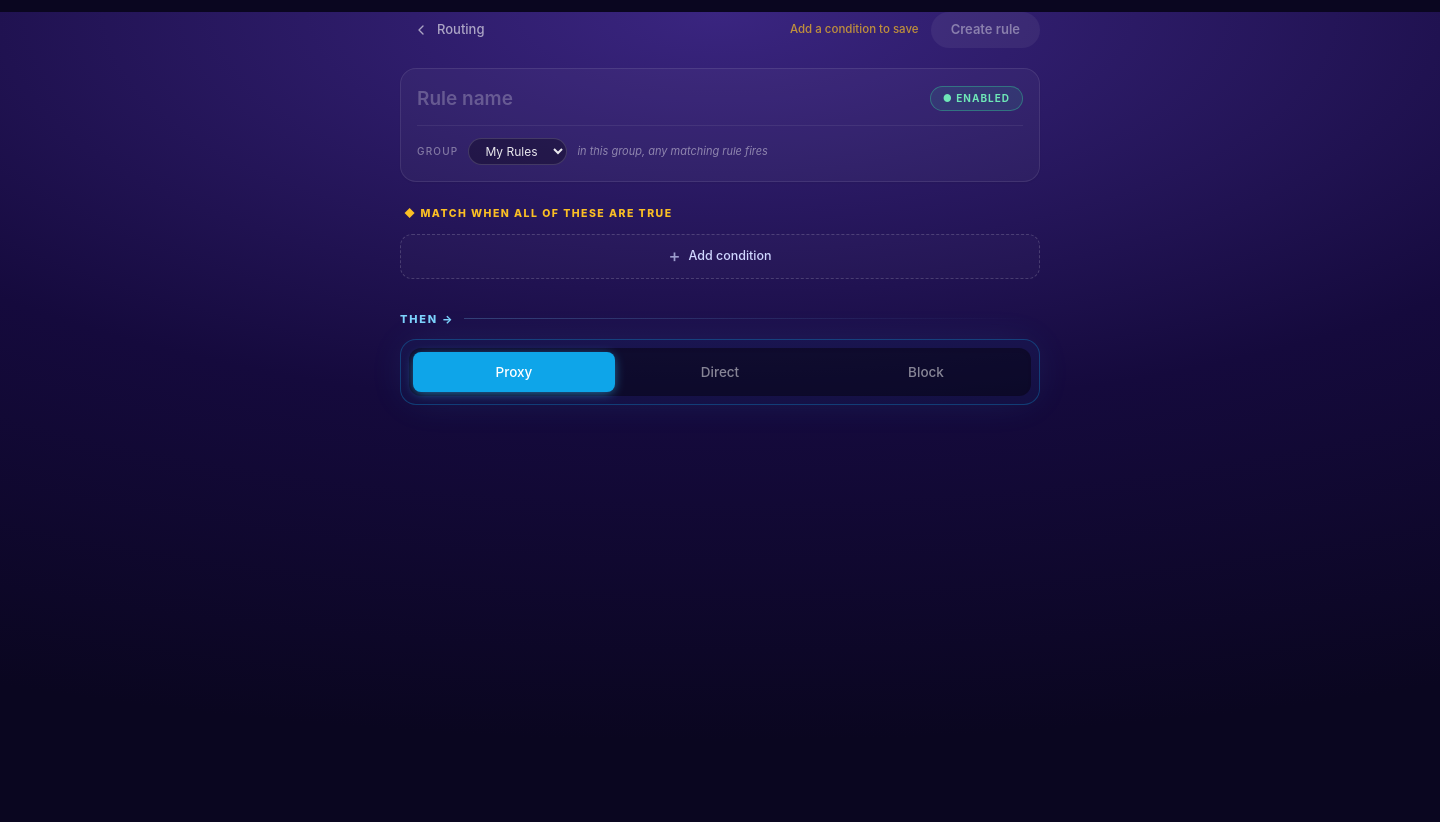
it: RuleEditor › adding a condition opens its card expanded and enables Save once a chip exists
This screenshot has width=1440, height=822.
Click the button "+ Add condition" at point(720, 256), box left=400, top=234, right=1040, bottom=279
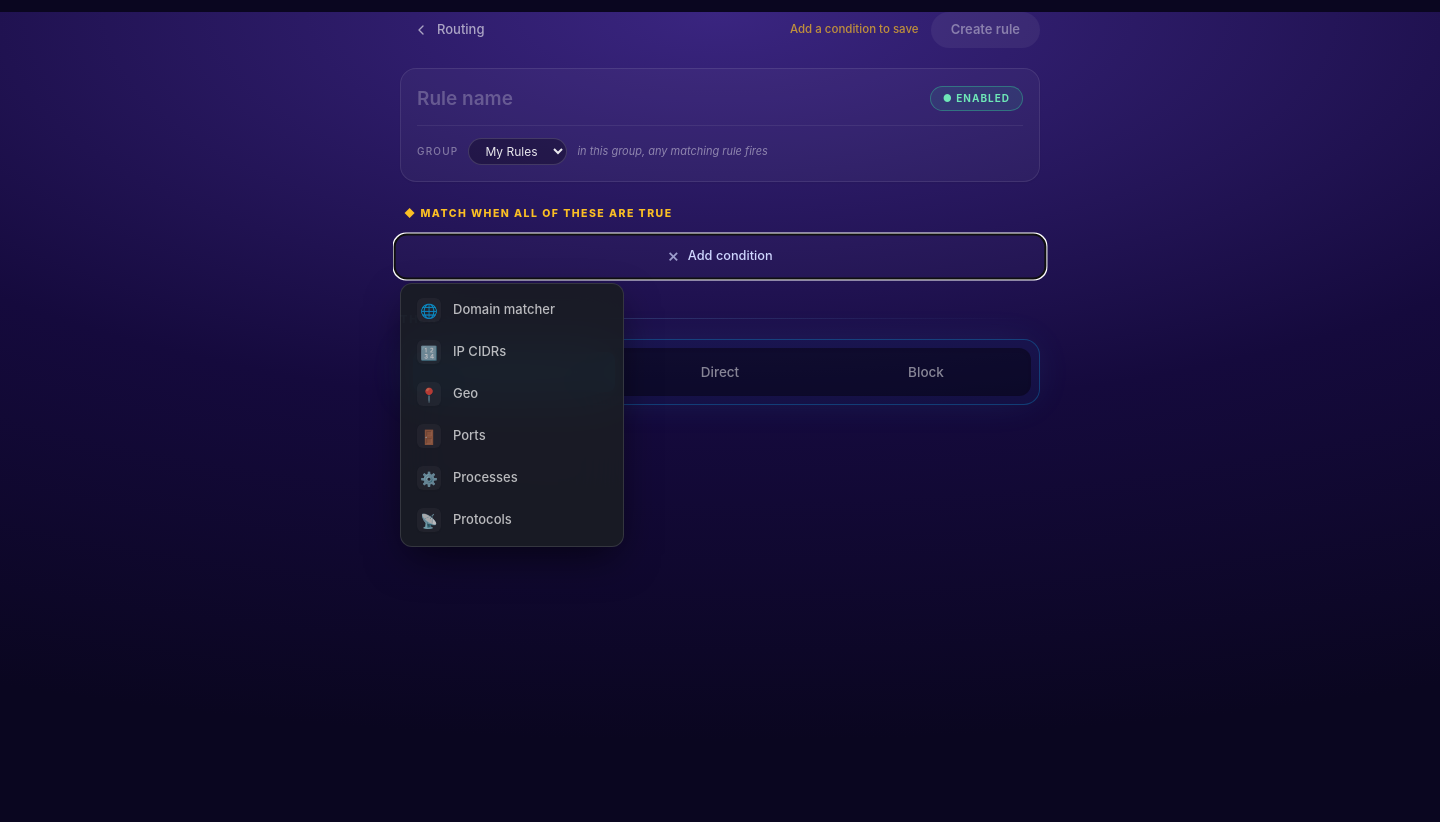
Click the menu item "🌐 Domain matcher" at point(512, 310), box left=407, top=290, right=617, bottom=330
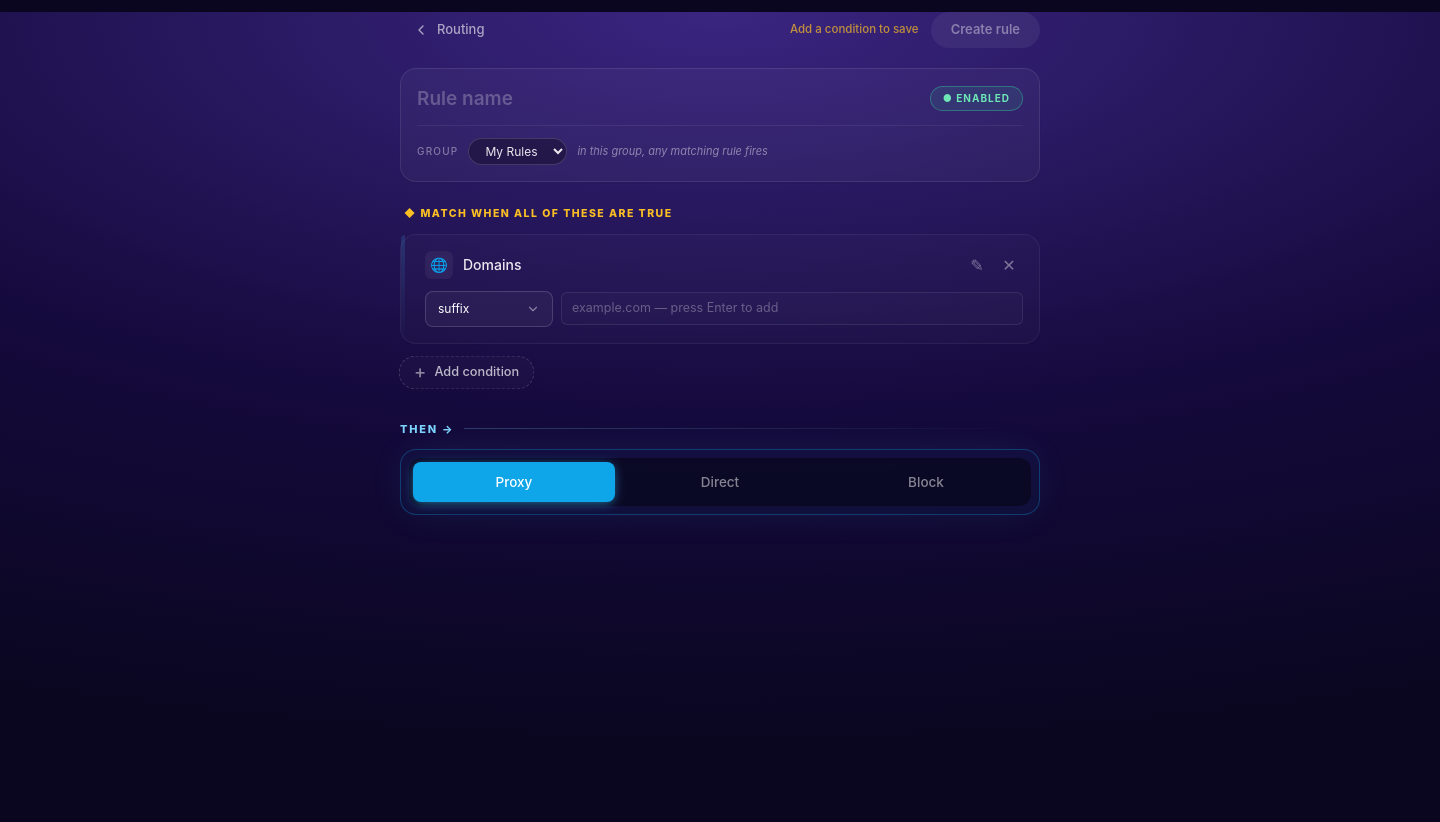
Expected: the button "Create rule" is disabled, left=931, top=12, right=1040, bottom=48
Expected: the heading "🌐 Domains" is shown, left=425, top=251, right=521, bottom=279
Type "example.com" into the field named "domain matcher value" at point(792, 309), box left=561, top=292, right=1023, bottom=325
Then press Enter
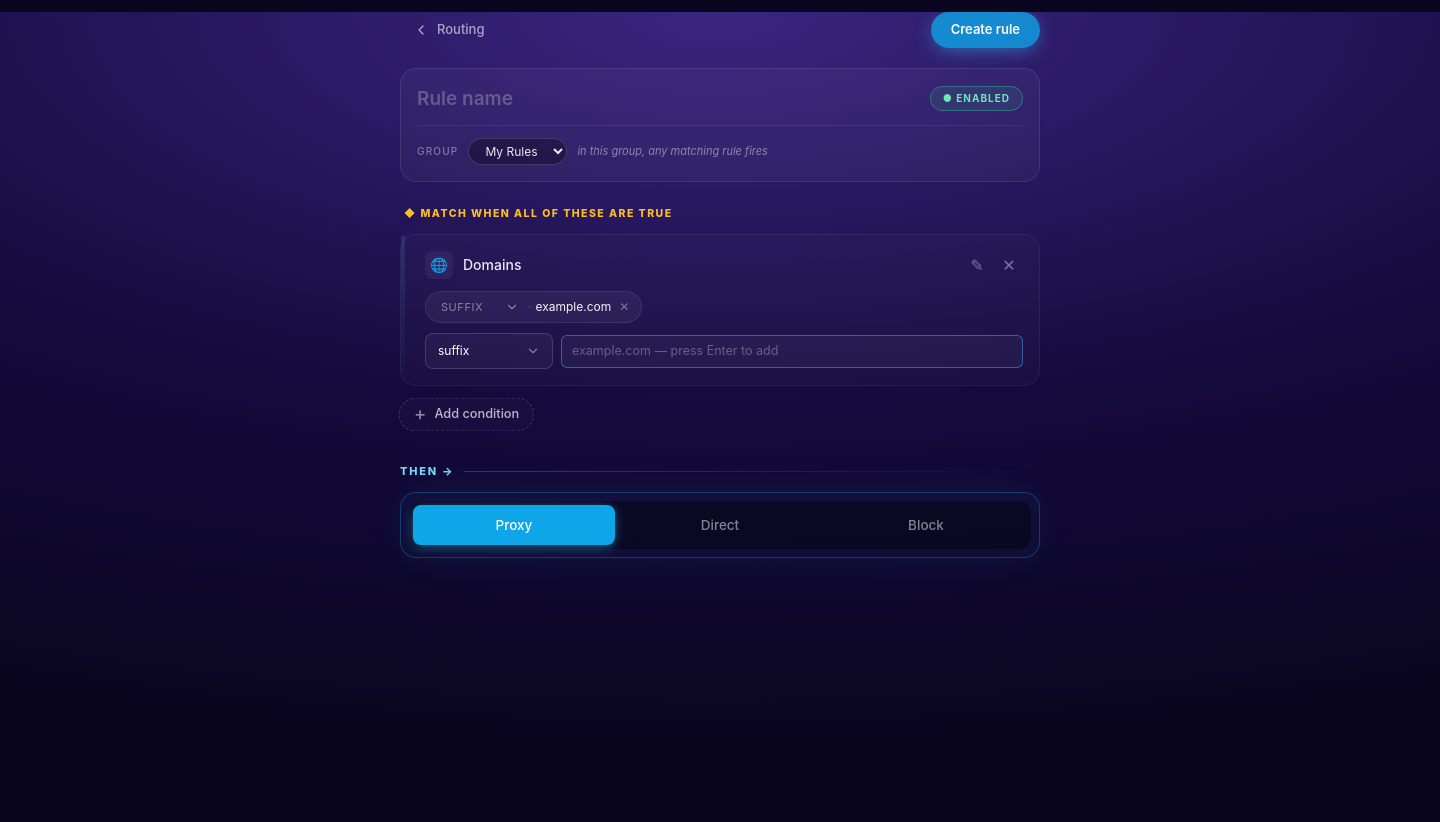
Expected: the button "Create rule" is enabled, left=931, top=12, right=1040, bottom=48
